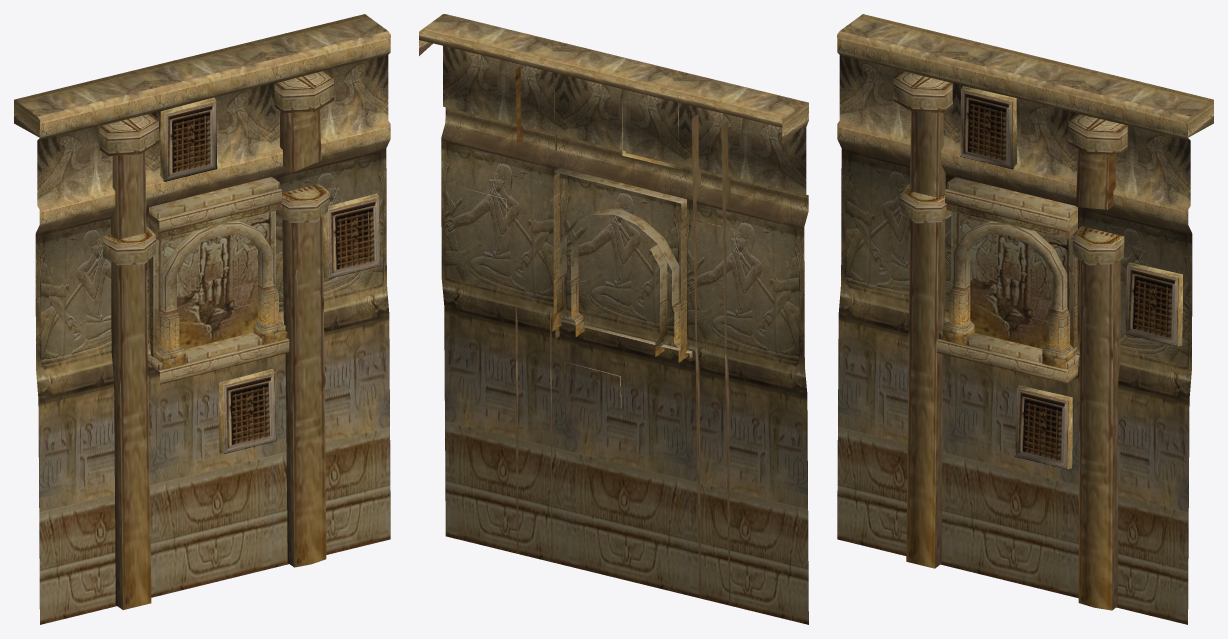
Rendered from S_Build_Desert135.FBX.
3 renders of one model, left to right at view 1: azimuth 30°, elevation 25°; view 2: azimuth 150°, elevation 25°; view 3: azimuth 330°, elevation 25°, orthographic. The views are drawn at different scales.
Visible parts, largest first — view 1: S_Build_Desert135; view 2: S_Build_Desert135; view 3: S_Build_Desert135.
Boxes of the visible parts, x1,y1,x2,y2 form: S_Build_Desert135: (14, 14, 390, 624); S_Build_Desert135: (419, 14, 808, 624); S_Build_Desert135: (837, 14, 1213, 624).
Bounding box in the file's own units: 3030 × 574 × 4180.
